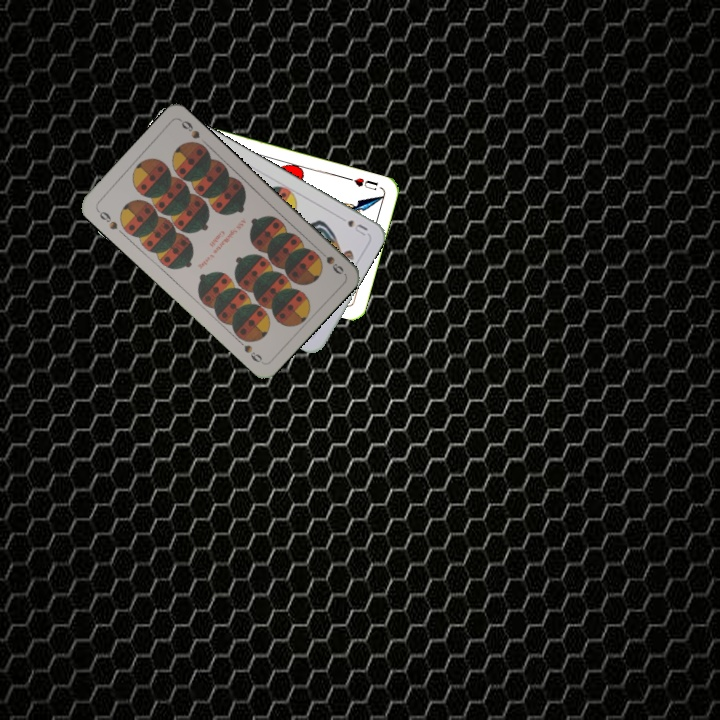HU: (343, 174, 381, 193)
S9: (311, 245, 346, 277), (93, 205, 120, 232)
SU: (343, 216, 370, 238)
